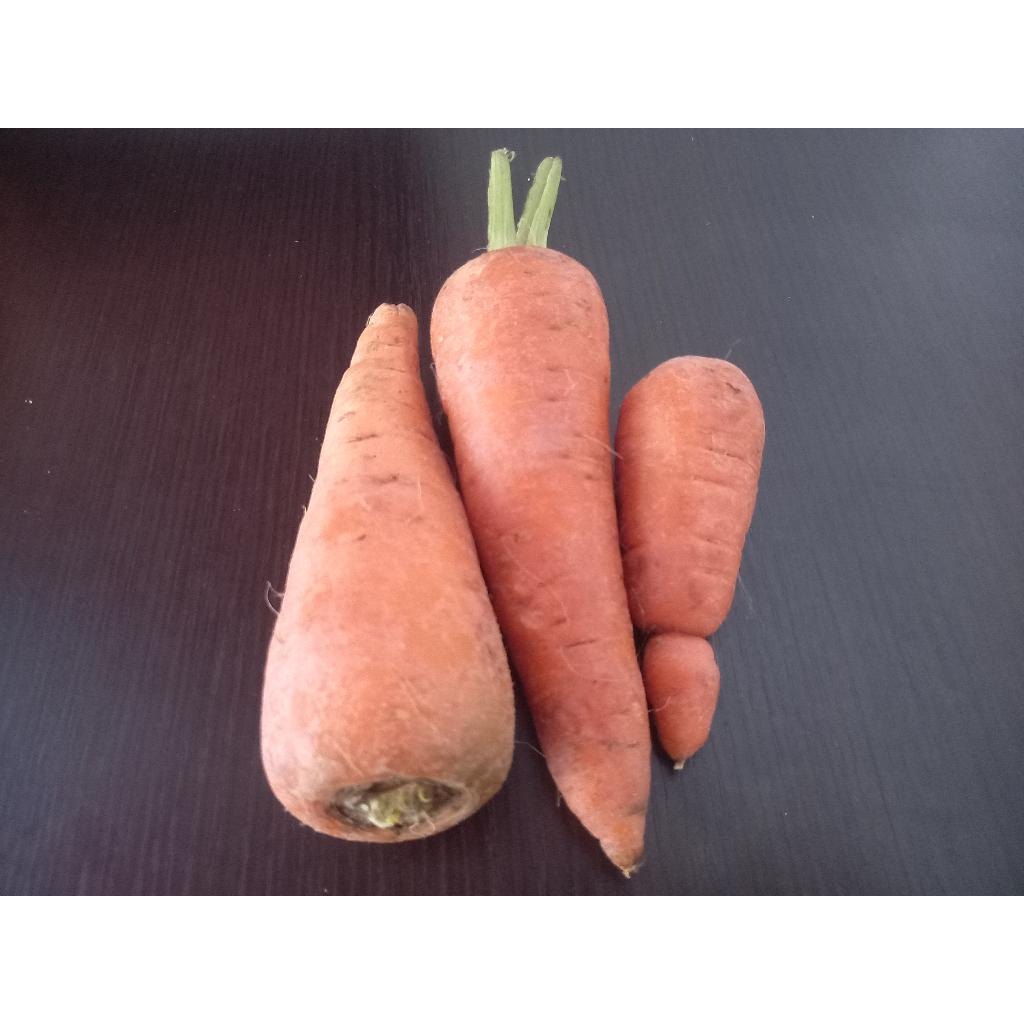carrot: (430, 246, 650, 872), (262, 304, 514, 842), (616, 356, 764, 768)
